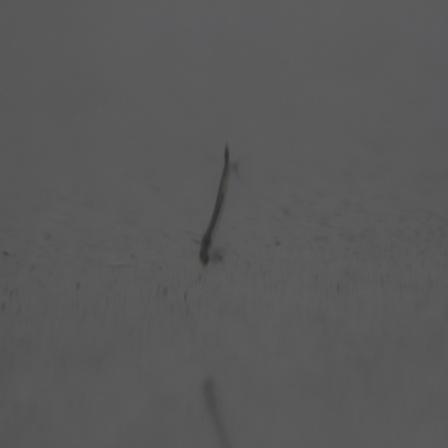Jentik-Nyamuk: (192, 138, 240, 270)
